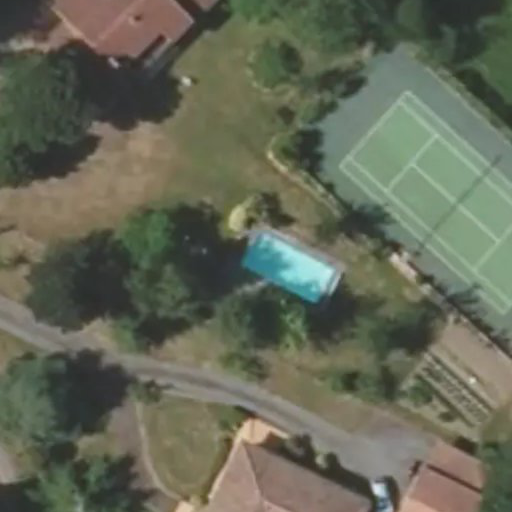pool: (207, 240, 303, 244)
